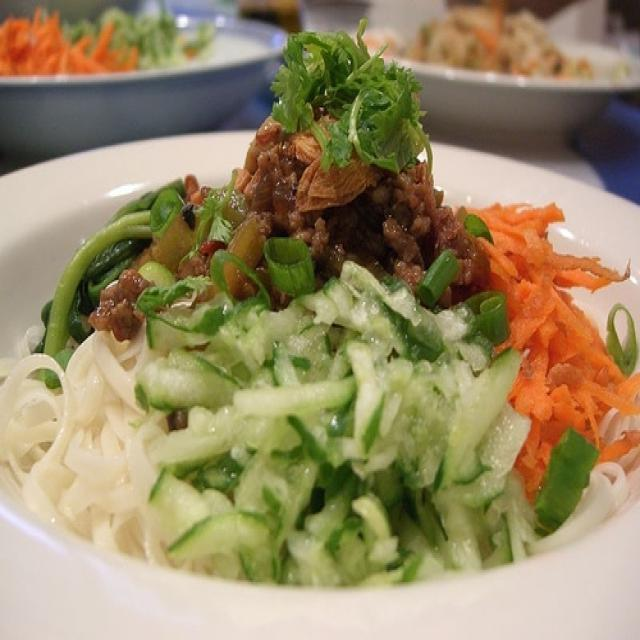面条主食: (13, 48, 627, 602)
